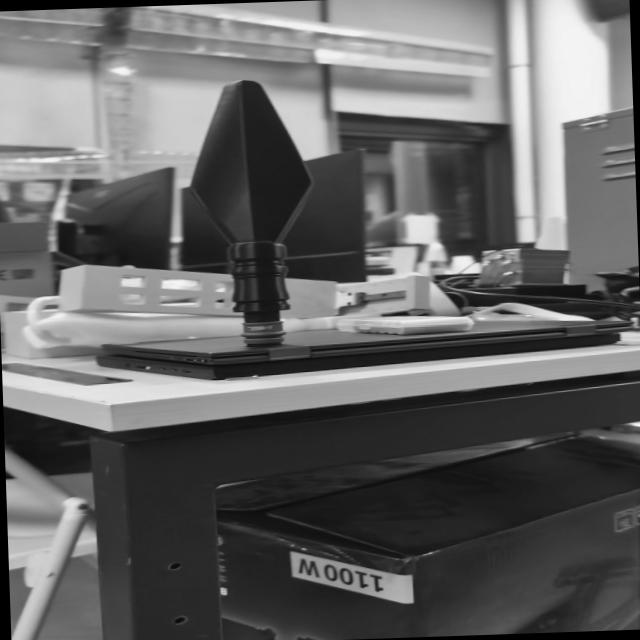base: (235, 316, 294, 352)
